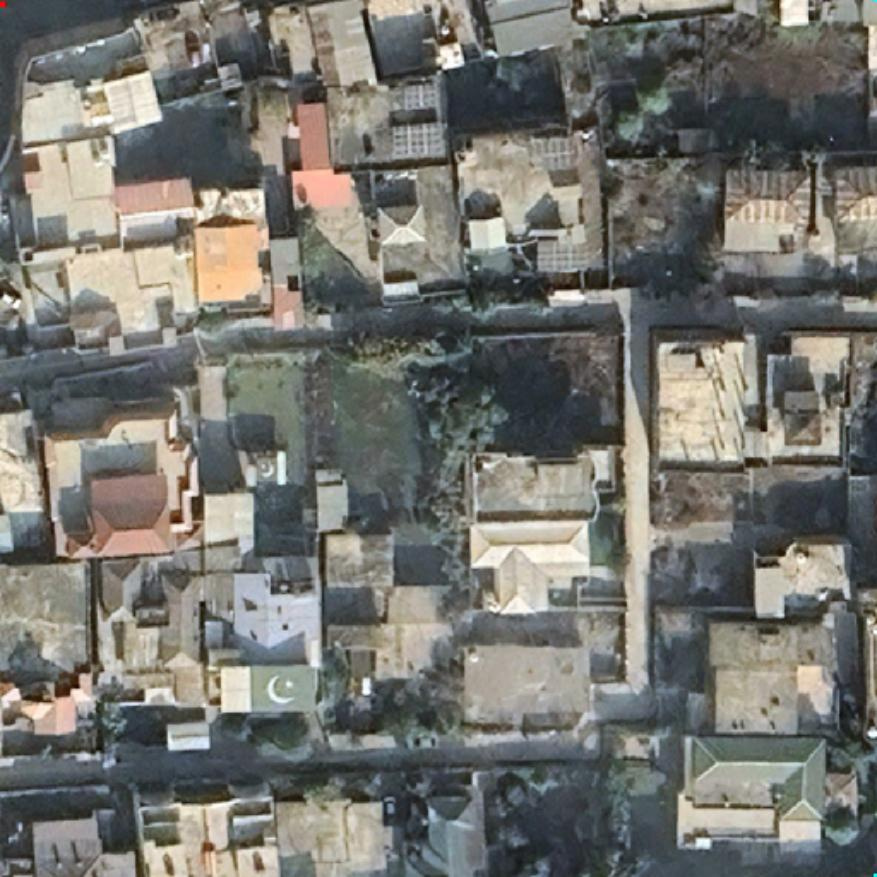Solarpanel: (390, 120, 445, 160), (538, 240, 588, 272), (399, 81, 439, 111)
